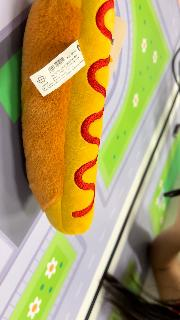hotdog: (20, 1, 116, 236)
